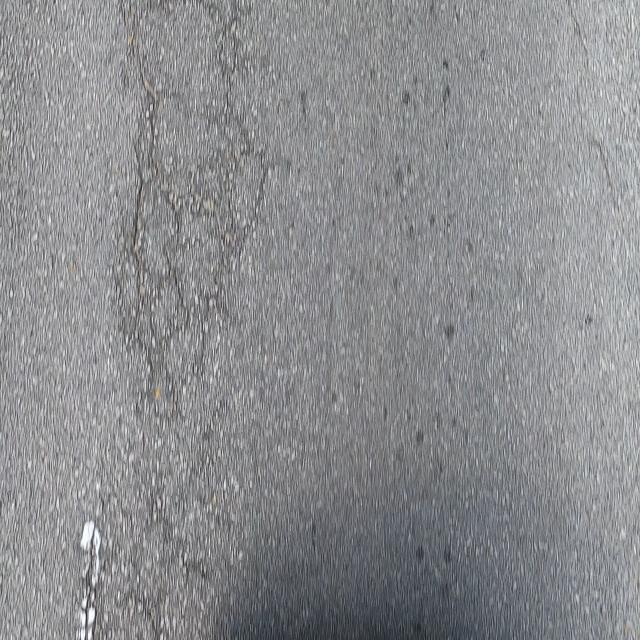Retak-Buaya: (111, 2, 276, 428)
Retak-Memanjang: (564, 6, 623, 227), (81, 488, 120, 639)
